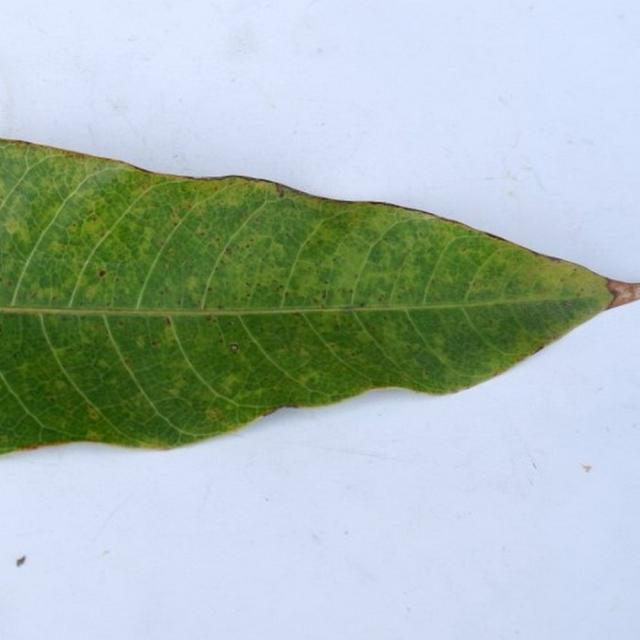Mango: (0, 140, 610, 452)
Powdery_Mildew: (245, 231, 295, 276), (67, 209, 117, 253), (23, 281, 74, 305), (181, 270, 210, 301), (200, 278, 218, 312), (48, 240, 70, 255), (4, 218, 22, 235), (15, 361, 35, 376), (85, 429, 105, 441), (205, 408, 221, 421), (134, 336, 146, 350), (87, 205, 99, 219), (87, 408, 100, 420), (167, 387, 180, 398), (56, 346, 73, 354), (298, 347, 310, 358), (68, 222, 80, 233), (170, 215, 180, 226), (159, 285, 168, 296), (321, 289, 329, 301), (569, 267, 579, 276), (313, 295, 321, 304), (184, 202, 193, 210), (224, 247, 232, 256), (422, 369, 431, 377), (164, 317, 172, 326), (98, 269, 107, 277), (158, 240, 166, 248), (177, 298, 184, 307), (198, 230, 206, 237), (378, 294, 386, 301), (30, 291, 37, 299), (151, 340, 159, 347), (5, 280, 13, 287), (293, 311, 302, 317), (323, 277, 330, 284), (245, 292, 251, 299), (255, 283, 262, 289), (245, 281, 251, 288), (78, 262, 84, 269), (118, 321, 125, 327), (359, 302, 366, 308), (244, 244, 250, 250), (353, 276, 359, 281), (219, 338, 224, 344), (348, 288, 353, 293)
